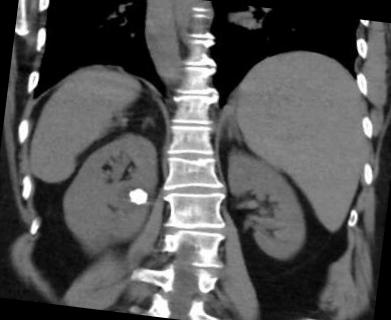Tas_Var: (125, 183, 150, 210)
